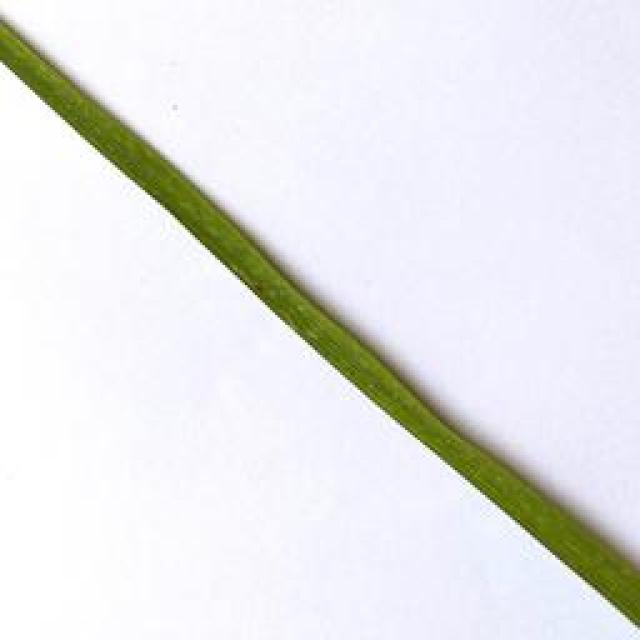Brown_Spot: (246, 274, 271, 300)
